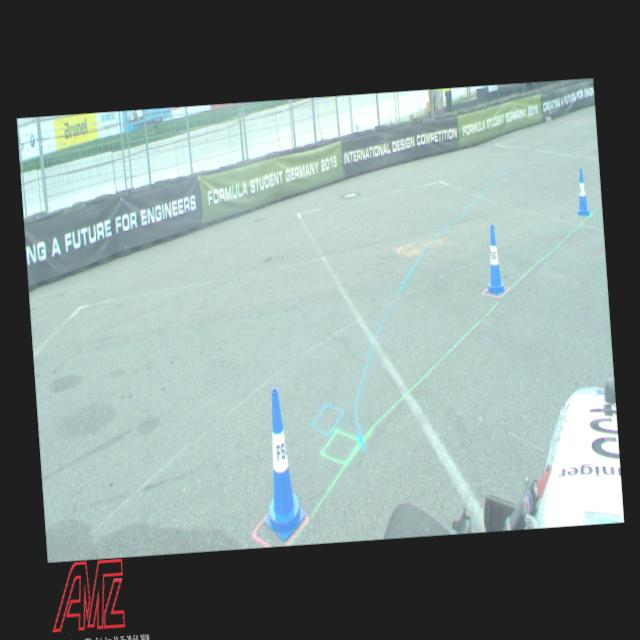blue_cone: (256, 386, 306, 540), (480, 224, 506, 295), (574, 168, 590, 216)
